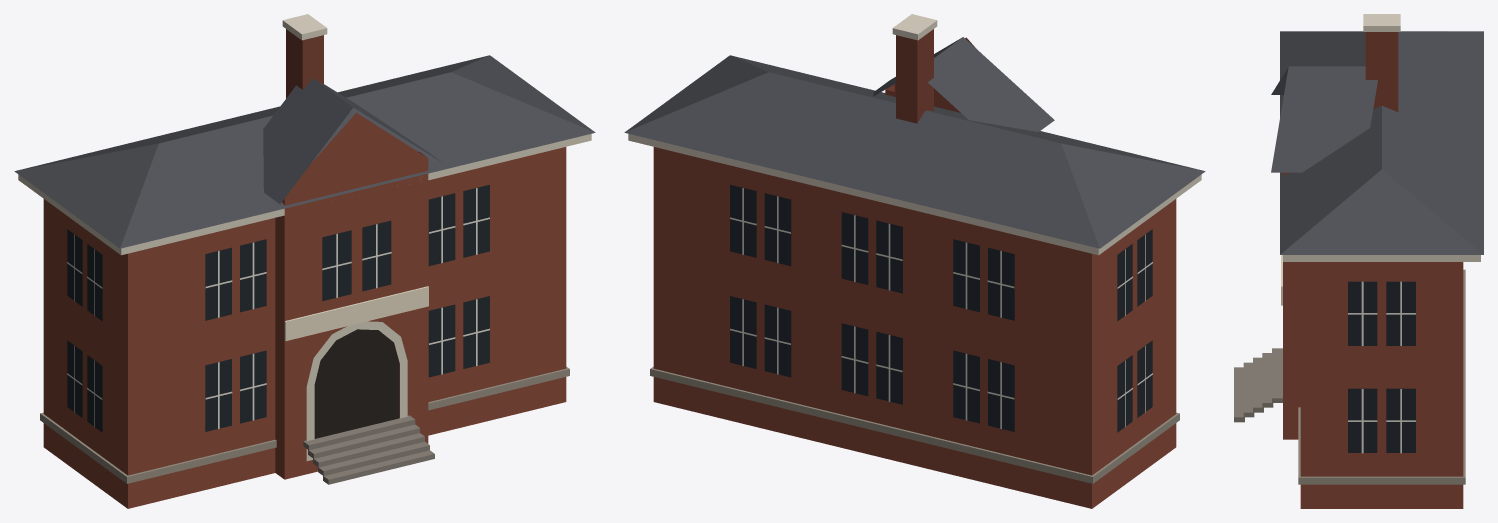
File: barring-cross-school-1913.glb
3 renders of one model, left to right at view 1: azimuth 30°, elevation 25°; view 2: azimuth 150°, elevation 25°; view 3: azimuth 270°, elevation 25°, orthographic. The views are drawn at different scales.
Visible parts, largest first — view 1: barring_brick, barring_slate, barring_glass, barring_dark, barring_trim, barring_base, barring_stone, barring_cream, barring_sash, barring_brick2; view 2: barring_brick, barring_slate, barring_glass, barring_trim, barring_stone, barring_brick2, barring_sash; view 3: barring_slate, barring_brick, barring_glass, barring_base, barring_stone, barring_brick2, barring_trim, barring_sash.
Boxes of the visible parts, x1,y1,x2,y2 form: barring_brick: (43,113,566,508); barring_slate: (14,55,595,248); barring_glass: (67,184,489,432); barring_dark: (314,329,399,438); barring_trim: (18,14,591,460); barring_base: (303,415,434,484); barring_stone: (40,366,569,483); barring_cream: (284,286,428,341); barring_sash: (67,188,489,428); barring_brick2: (286,29,323,98); barring_brick: (653,37,1176,508); barring_slate: (624,37,1205,248); barring_glass: (730,184,1152,432); barring_trim: (628,14,1201,255); barring_stone: (650,366,1179,483); barring_brick2: (896,29,933,123); barring_sash: (730,188,1152,428); barring_slate: (1271,31,1483,254); barring_brick: (1283,96,1463,508); barring_glass: (1348,281,1415,452); barring_base: (1234,348,1282,422); barring_stone: (1298,269,1465,484); barring_brick2: (1365,32,1398,111); barring_trim: (1283,14,1480,261); barring_sash: (1348,281,1415,453).
Size of the model in its own units: 17.9 by 14.39 by 8.45.
